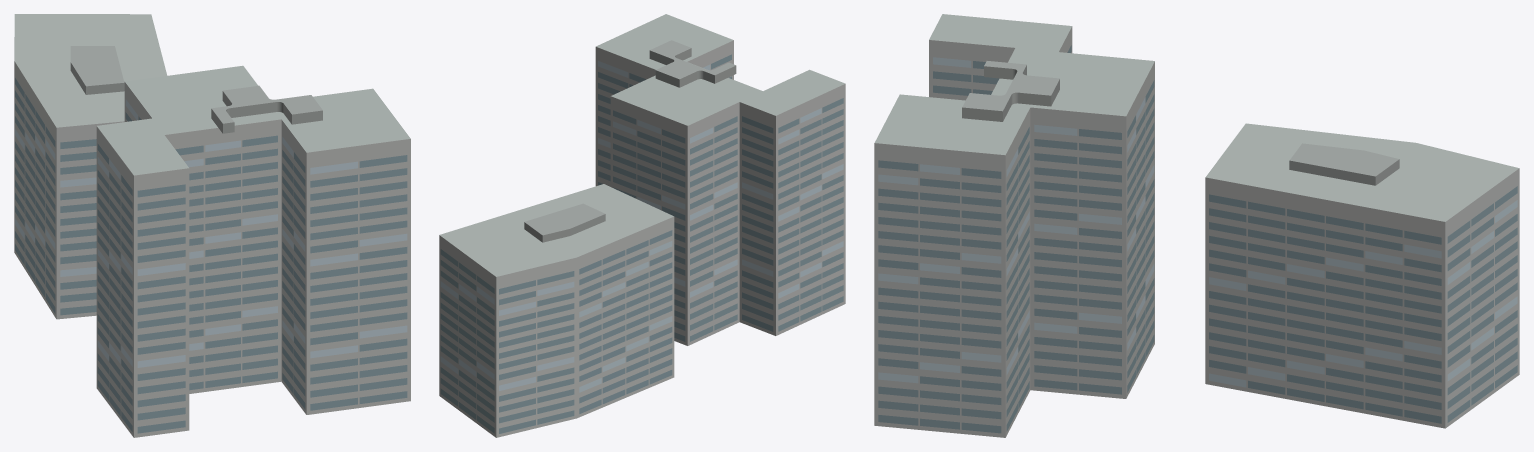
Rendered from apt-a15679106.glb.
3 renders of one model, left to right at view 1: azimuth 30°, elevation 25°; view 2: azimuth 150°, elevation 25°; view 3: azimuth 270°, elevation 25°, orthographic. The views are drawn at different scales.
Visible parts, largest first — view 1: apt-a15679106; view 2: apt-a15679106; view 3: apt-a15679106.
Part boxes in pixels (x1,y1,x2,y2): apt-a15679106: (14,14,410,437); apt-a15679106: (439,14,845,437); apt-a15679106: (874,14,1519,437).
Size of the model in its own units: 67.07 by 65 by 129.
